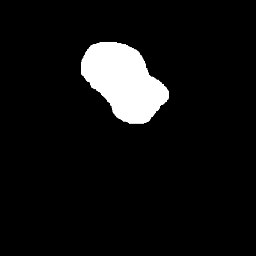mass: (90, 47, 164, 120)
